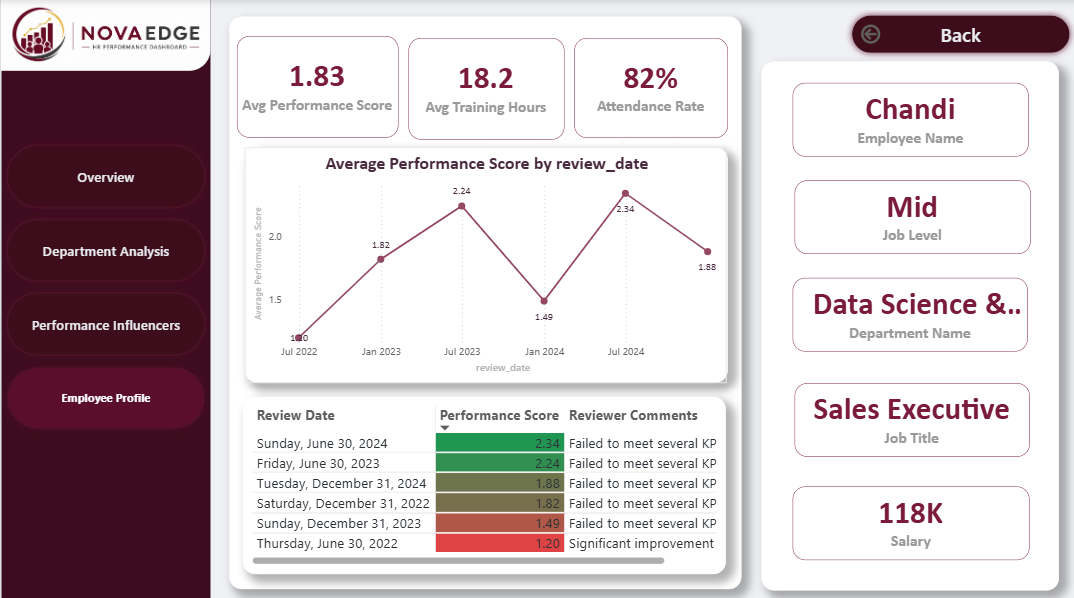

The page's visual inventory and layout, read from the dashboard file:
{"tool":"powerbi","page":{"name":"Employee Profile","canvas":[1280,720],"ordinal":3},"visuals":[{"type":"shape","box":[271.1,21.1,610,682.2],"z":0},{"type":"shape","box":[906.7,73.3,354.4,630],"z":1000},{"type":"cardVisual","fields":{"Data":["Min(dim_employee.first_name)"]},"box":[942.2,100,281.1,87.8],"z":2000},{"type":"cardVisual","fields":{"Data":["Min(dim_employee.job_title)"]},"box":[945.6,457.8,280,87.8],"z":4000},{"type":"cardVisual","fields":{"Data":["Min(dim_department.department_name)"]},"box":[943.3,331.1,280,87.8],"z":5000},{"type":"cardVisual","fields":{"Data":["Sum(dim_employee.salary)"]},"box":[943.3,580,282.2,87.8],"z":6000},{"type":"lineChart","fields":{"Category":["fact_performance.review_date"],"Y":["fact_performance.Average Performance Score"]},"box":[289.3,177.2,575.6,280.3],"z":8000},{"type":"tableEx","fields":{"Values":["fact_performance.review_date","fact_performance.performance_score","fact_performance.reviewer_comments"]},"box":[288.9,474.4,575.6,211.1],"z":9000},{"type":"cardVisual","fields":{"Data":["fact_performance.Average Performance Score"]},"box":[281.1,44.4,192.2,121.1],"z":10000},{"type":"cardVisual","fields":{"Data":["fact_performance.Attendance Rate %"]},"box":[681.7,46,183.2,119.1],"z":11000},{"type":"cardVisual","fields":{"Data":["fact_performance.Average Training Hours"]},"box":[484.4,45.6,185.6,121.1],"z":12000},{"type":"cardVisual","fields":{"Data":["Min(dim_employee.job_level)"]},"box":[944.4,215.6,281.1,87.8],"z":13000},{"type":"shape","title":"Menue BG","box":[0,0,250,720],"z":14000},{"type":"pageNavigator","box":[0,166.7,250,355.6],"z":15000},{"type":"image","box":[0,0,249.9,85.4],"z":16000},{"type":"actionButton","box":[1005.3,12.4,275.1,60.5],"z":17000}]}

Visuals, with their boxes in screenshot pixels (x1, y1, x2, y2), scaled from the page's 1280x720 canvas onto the 1074x598 screenshot:
shape: bbox=(227, 18, 739, 584)
shape: bbox=(761, 61, 1058, 584)
cardVisual - Min(dim_employee.first_name): bbox=(791, 83, 1026, 156)
cardVisual - Min(dim_employee.job_title): bbox=(793, 380, 1028, 453)
cardVisual - Min(dim_department.department_name): bbox=(791, 275, 1026, 348)
cardVisual - Sum(dim_employee.salary): bbox=(791, 482, 1028, 555)
lineChart - fact_performance.review_date x fact_performance.Average Performance Score: bbox=(243, 147, 726, 380)
tableEx - fact_performance.review_date x fact_performance.performance_score: bbox=(242, 394, 725, 569)
cardVisual - fact_performance.Average Performance Score: bbox=(236, 37, 397, 137)
cardVisual - fact_performance.Attendance Rate %: bbox=(572, 38, 726, 137)
cardVisual - fact_performance.Average Training Hours: bbox=(406, 38, 562, 138)
cardVisual - Min(dim_employee.job_level): bbox=(792, 179, 1028, 252)
"Menue BG" shape: bbox=(0, 0, 210, 597)
pageNavigator: bbox=(0, 138, 210, 434)
image: bbox=(0, 0, 210, 71)
actionButton: bbox=(844, 10, 1073, 61)
